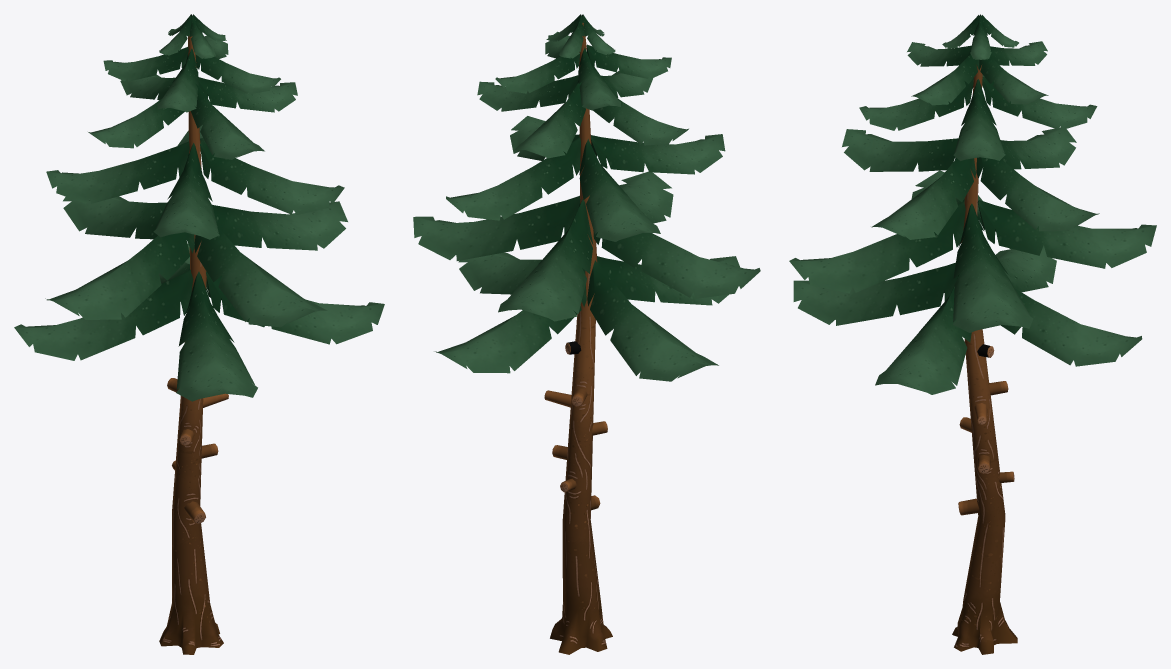
File: Tree_Pine_GCut_10M.fbx
3 views of the same model, side by side, from view 1: azimuth 30°, elevation 25°; view 2: azimuth 150°, elevation 25°; view 3: azimuth 270°, elevation 25° (orthographic).
Parts seen in each view (by area): view 1: Tree_Pine_10M_GCut; view 2: Tree_Pine_10M_GCut; view 3: Tree_Pine_10M_GCut.
Boxes of the visible parts, x1,y1,x2,y2 form: Tree_Pine_10M_GCut: (14,14,384,654); Tree_Pine_10M_GCut: (413,14,760,654); Tree_Pine_10M_GCut: (789,14,1156,654).
Size of the model in its own units: 536 by 1013 by 539.
